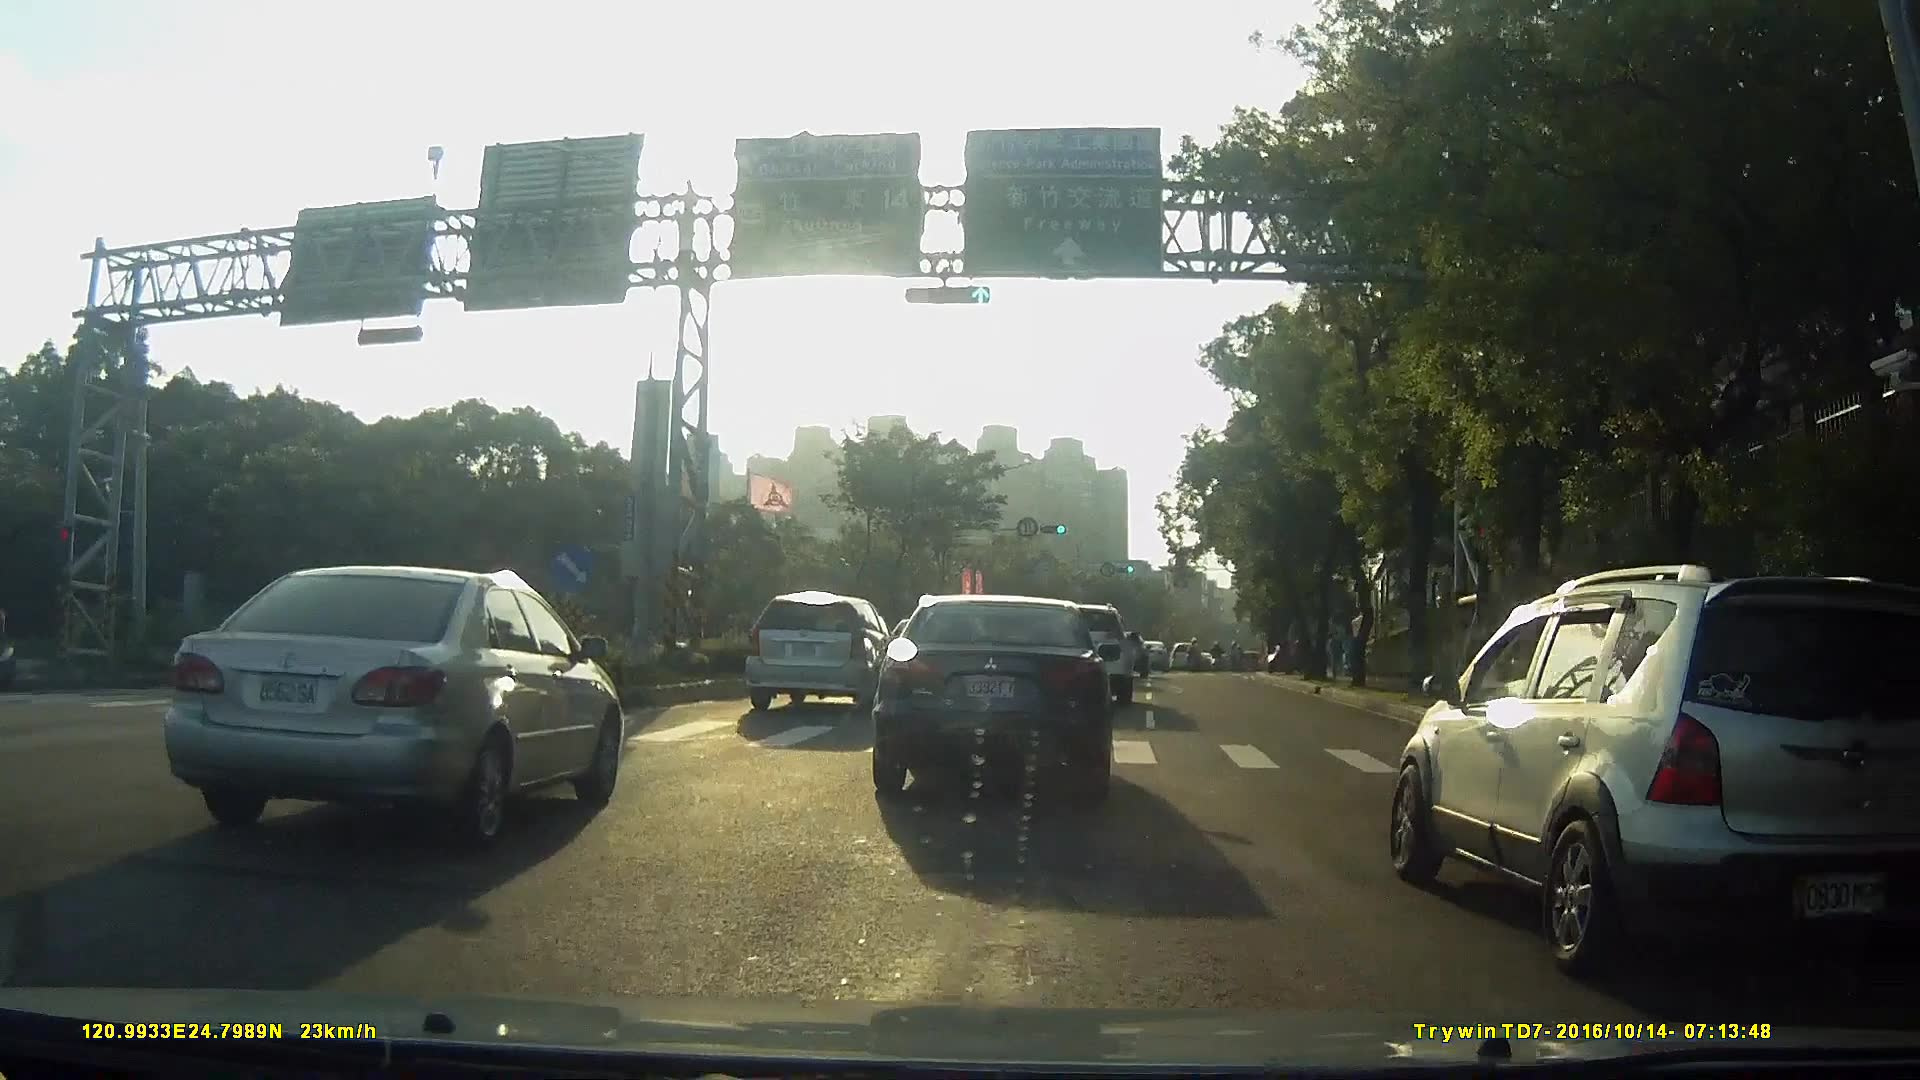vehicle: (1385, 564, 1913, 989), (140, 558, 640, 860), (861, 597, 1137, 814), (735, 591, 891, 717), (1127, 638, 1162, 670), (1159, 641, 1189, 673)
